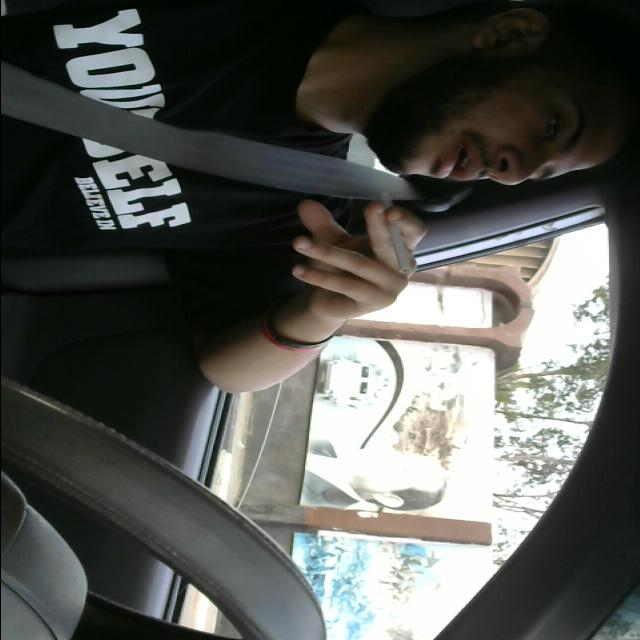smoking: (380, 188, 410, 282)
